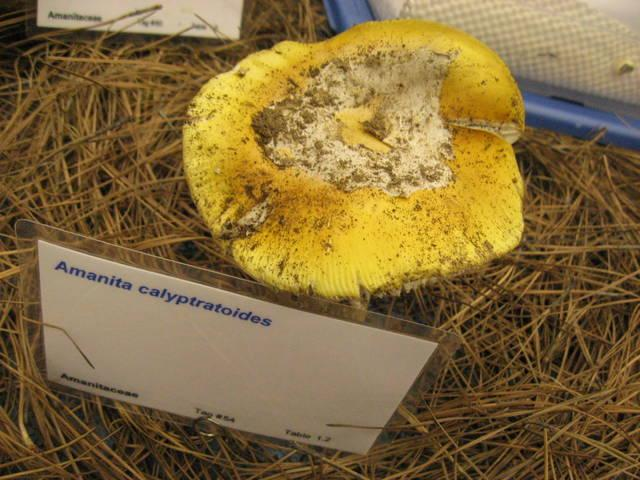Edible Mushroom: (180, 16, 527, 302)
